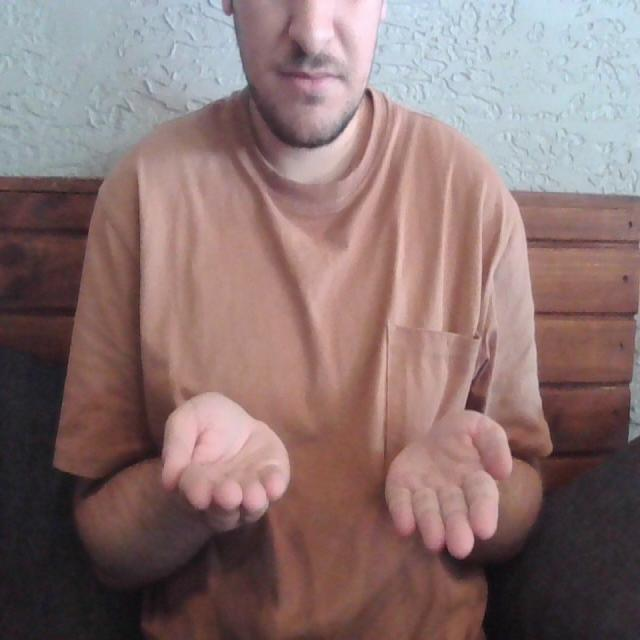Evet: (152, 378, 519, 563)
